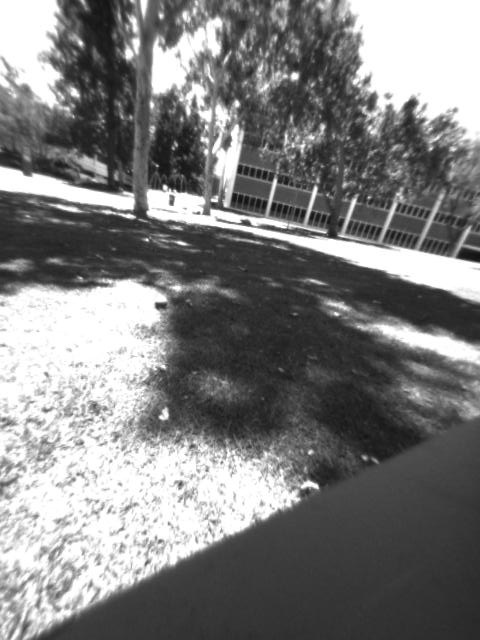dogtoy: (150, 287, 175, 314)
